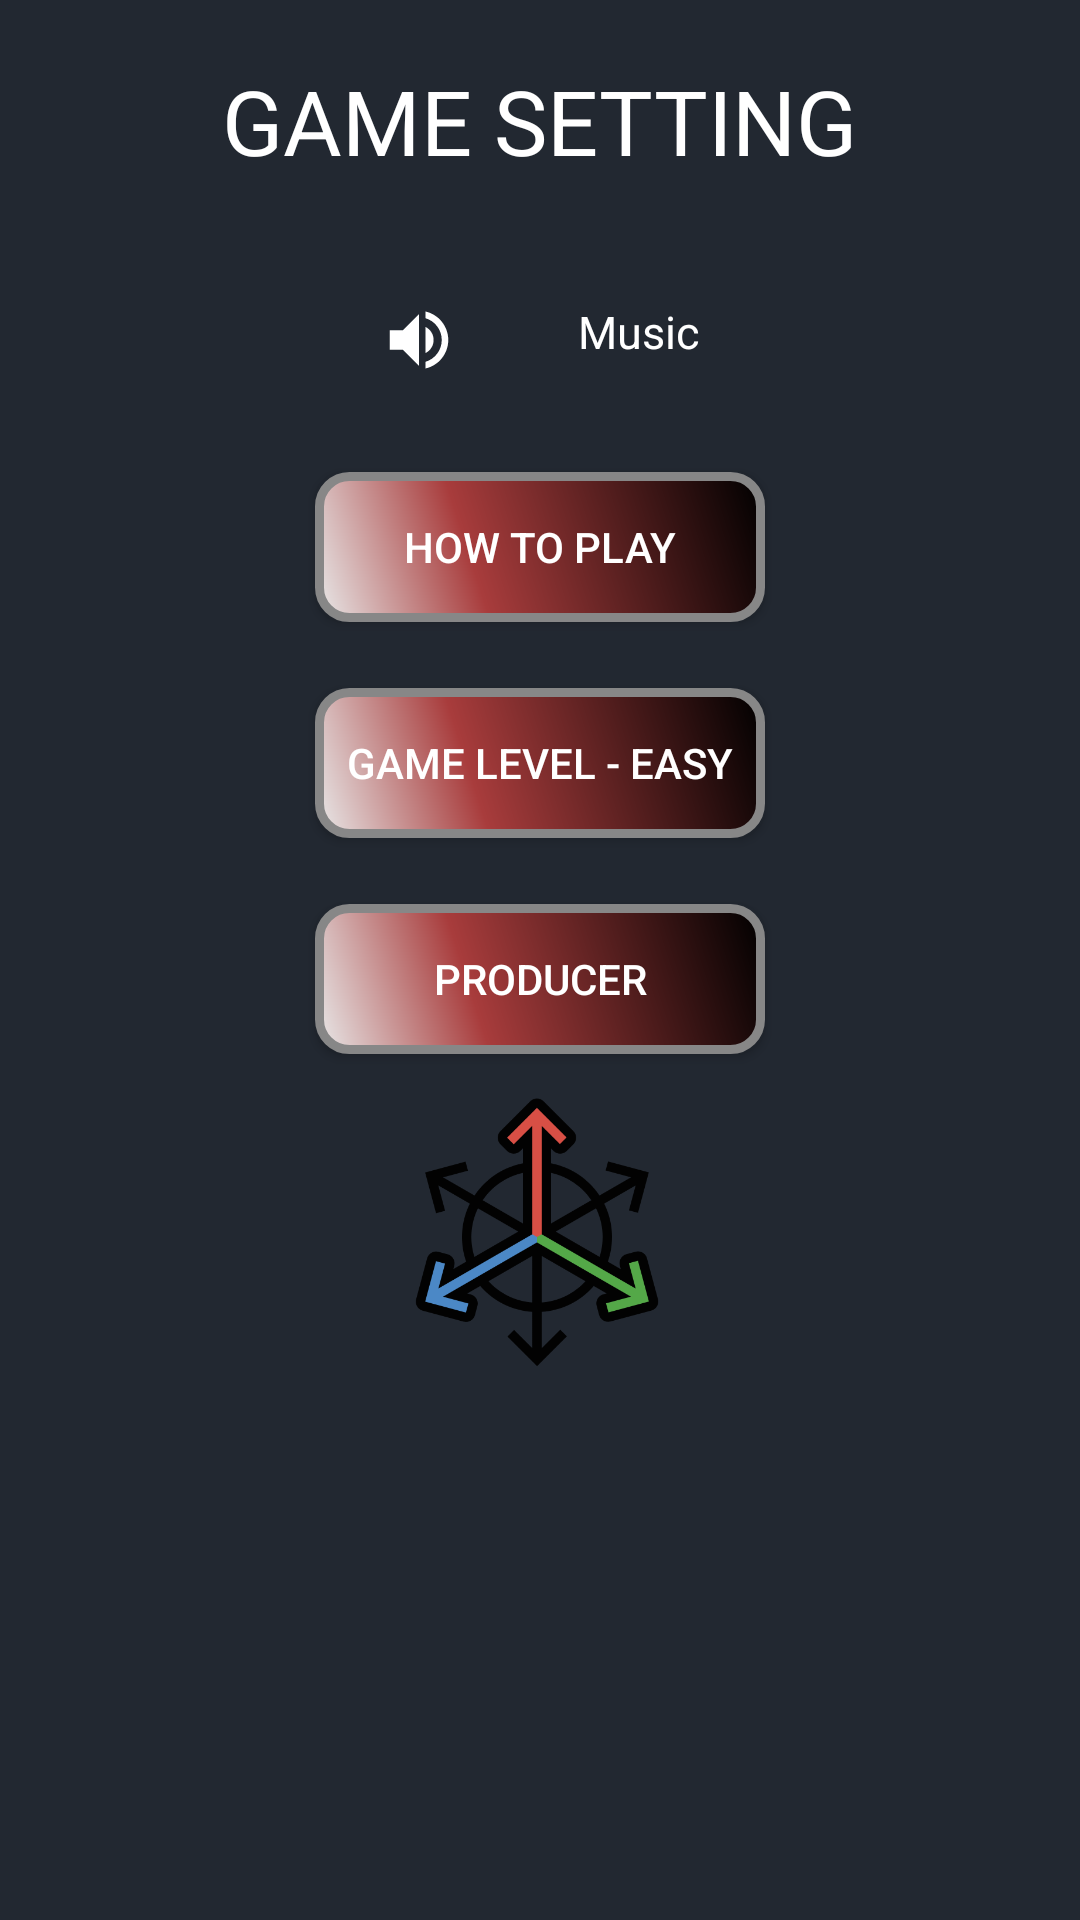

Named icons in this screenshot (1080w x 1920h) and their centers, (x=x, y=y):
accelerometer: (x=537, y=1232)
soundon: (x=419, y=340)
